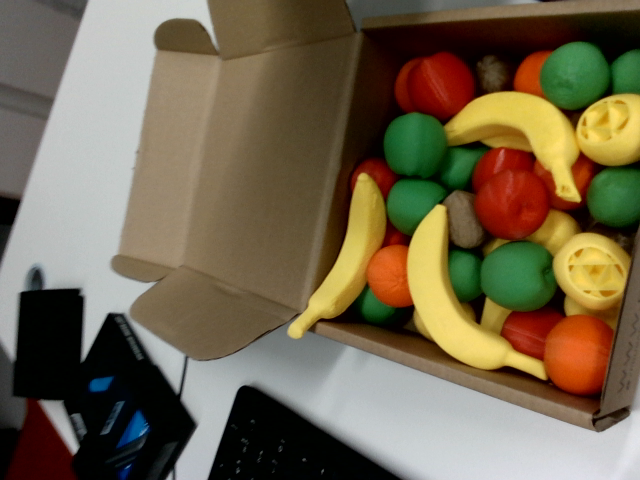banana: (370, 202, 551, 421), (437, 66, 612, 205), (280, 171, 410, 356)
green apple: (475, 236, 560, 317), (375, 105, 454, 184), (535, 36, 613, 115), (374, 162, 449, 238), (587, 167, 639, 227), (448, 249, 481, 302), (612, 49, 639, 94)
lemon: (545, 226, 633, 313), (578, 93, 639, 165)
orange: (535, 307, 616, 399), (363, 243, 412, 310), (513, 46, 552, 97)
red apple: (462, 153, 563, 254), (388, 49, 478, 128), (462, 136, 537, 193)
walnut: (441, 186, 489, 250), (476, 52, 518, 91)
